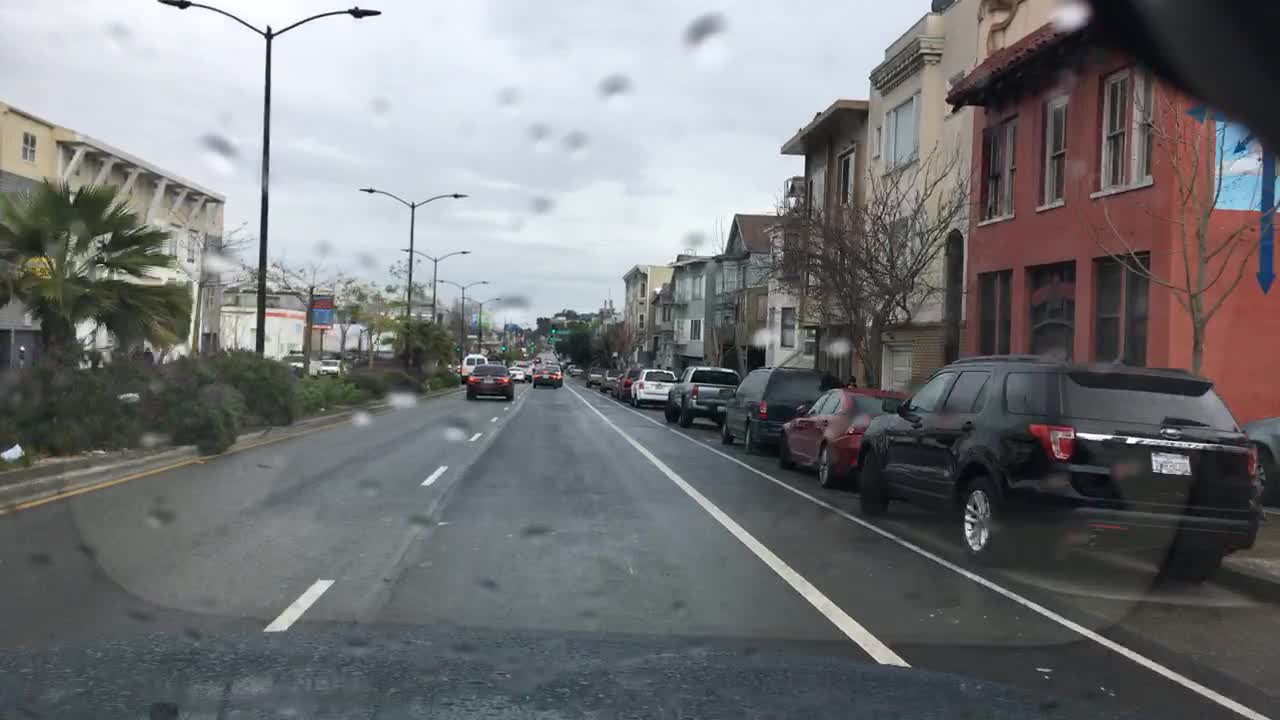car: (855, 355, 1258, 582), (776, 388, 908, 486), (719, 368, 840, 450), (663, 366, 742, 426), (1246, 416, 1277, 506), (627, 368, 675, 408), (466, 364, 512, 399), (277, 351, 316, 376), (616, 366, 641, 401), (459, 356, 490, 384), (316, 360, 345, 380), (597, 370, 621, 394), (514, 361, 535, 385), (541, 364, 561, 386), (346, 355, 370, 369), (585, 370, 603, 388), (375, 348, 393, 363), (446, 359, 461, 374), (565, 363, 582, 376), (510, 366, 524, 381), (338, 350, 355, 361), (320, 350, 338, 360), (361, 350, 379, 359), (558, 360, 570, 369), (531, 356, 541, 365), (525, 360, 535, 368), (544, 358, 554, 365), (511, 359, 522, 365)
person: (89, 340, 102, 370), (129, 344, 142, 364), (143, 346, 155, 366), (101, 350, 112, 370), (82, 348, 91, 369), (843, 375, 855, 389)
traffic light: (549, 321, 557, 335), (452, 345, 461, 356), (546, 336, 552, 349), (499, 343, 506, 354), (530, 341, 535, 356)
traffic sign: (311, 298, 331, 326), (672, 319, 690, 346)
